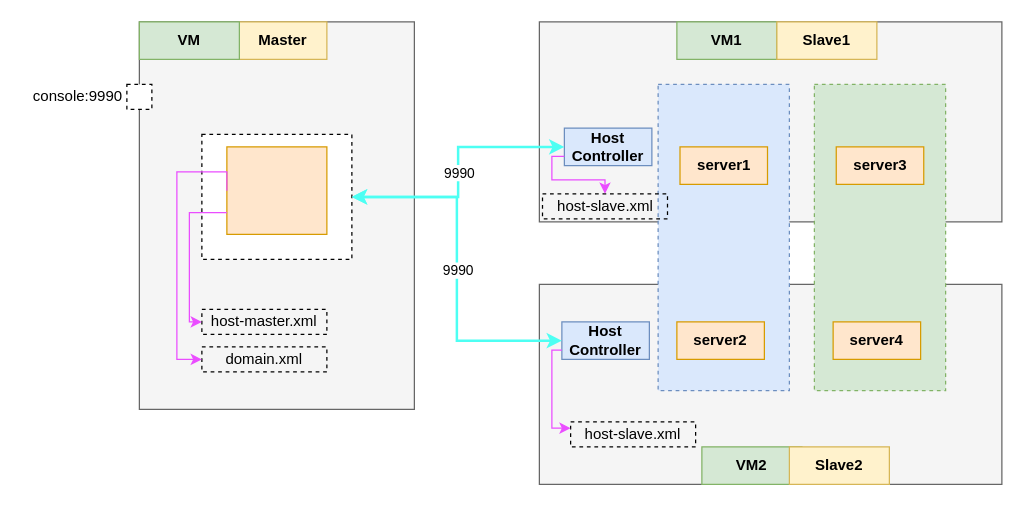
Some shapes in this 1024 by 506 pixel diagram are drawn without their labels. The box of each missing label's shape, as (x1, y1, x2, y2) in pixels:
Domain Controller: (226, 146, 327, 234)
Server Group A profile full: (657, 83, 789, 391)
Server Group B profile full-ha: (813, 83, 946, 391)
